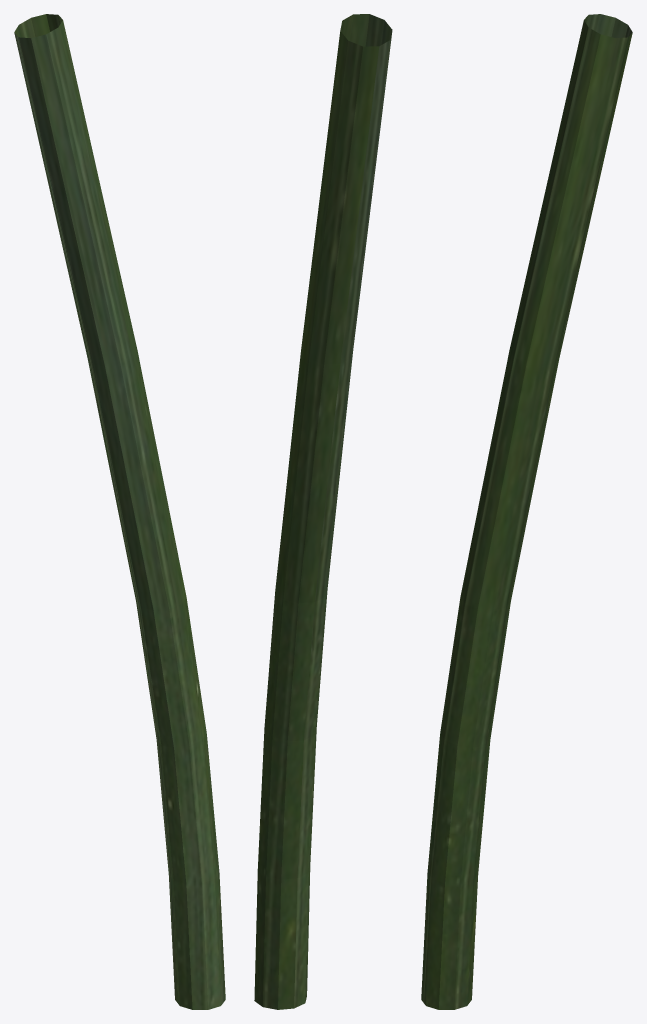
The model's file is corn.obj.
3 views of the same model, side by side, from view 1: azimuth 90°, elevation 25°; view 2: azimuth 210°, elevation 25°; view 3: azimuth 270°, elevation 25° (orthographic). The views are drawn at different scales.
Parts seen in each view (by area): view 1: Circle; view 2: Circle; view 3: Circle.
Boxes of the visible parts, x1,y1,x2,y2 form: Circle: (14, 14, 225, 1009); Circle: (254, 14, 392, 1009); Circle: (421, 14, 632, 1009).
Bounding box in the file's own units: 0.1902 × 4.26 × 0.8339.
Materials: 1 (1 with a texture image).
